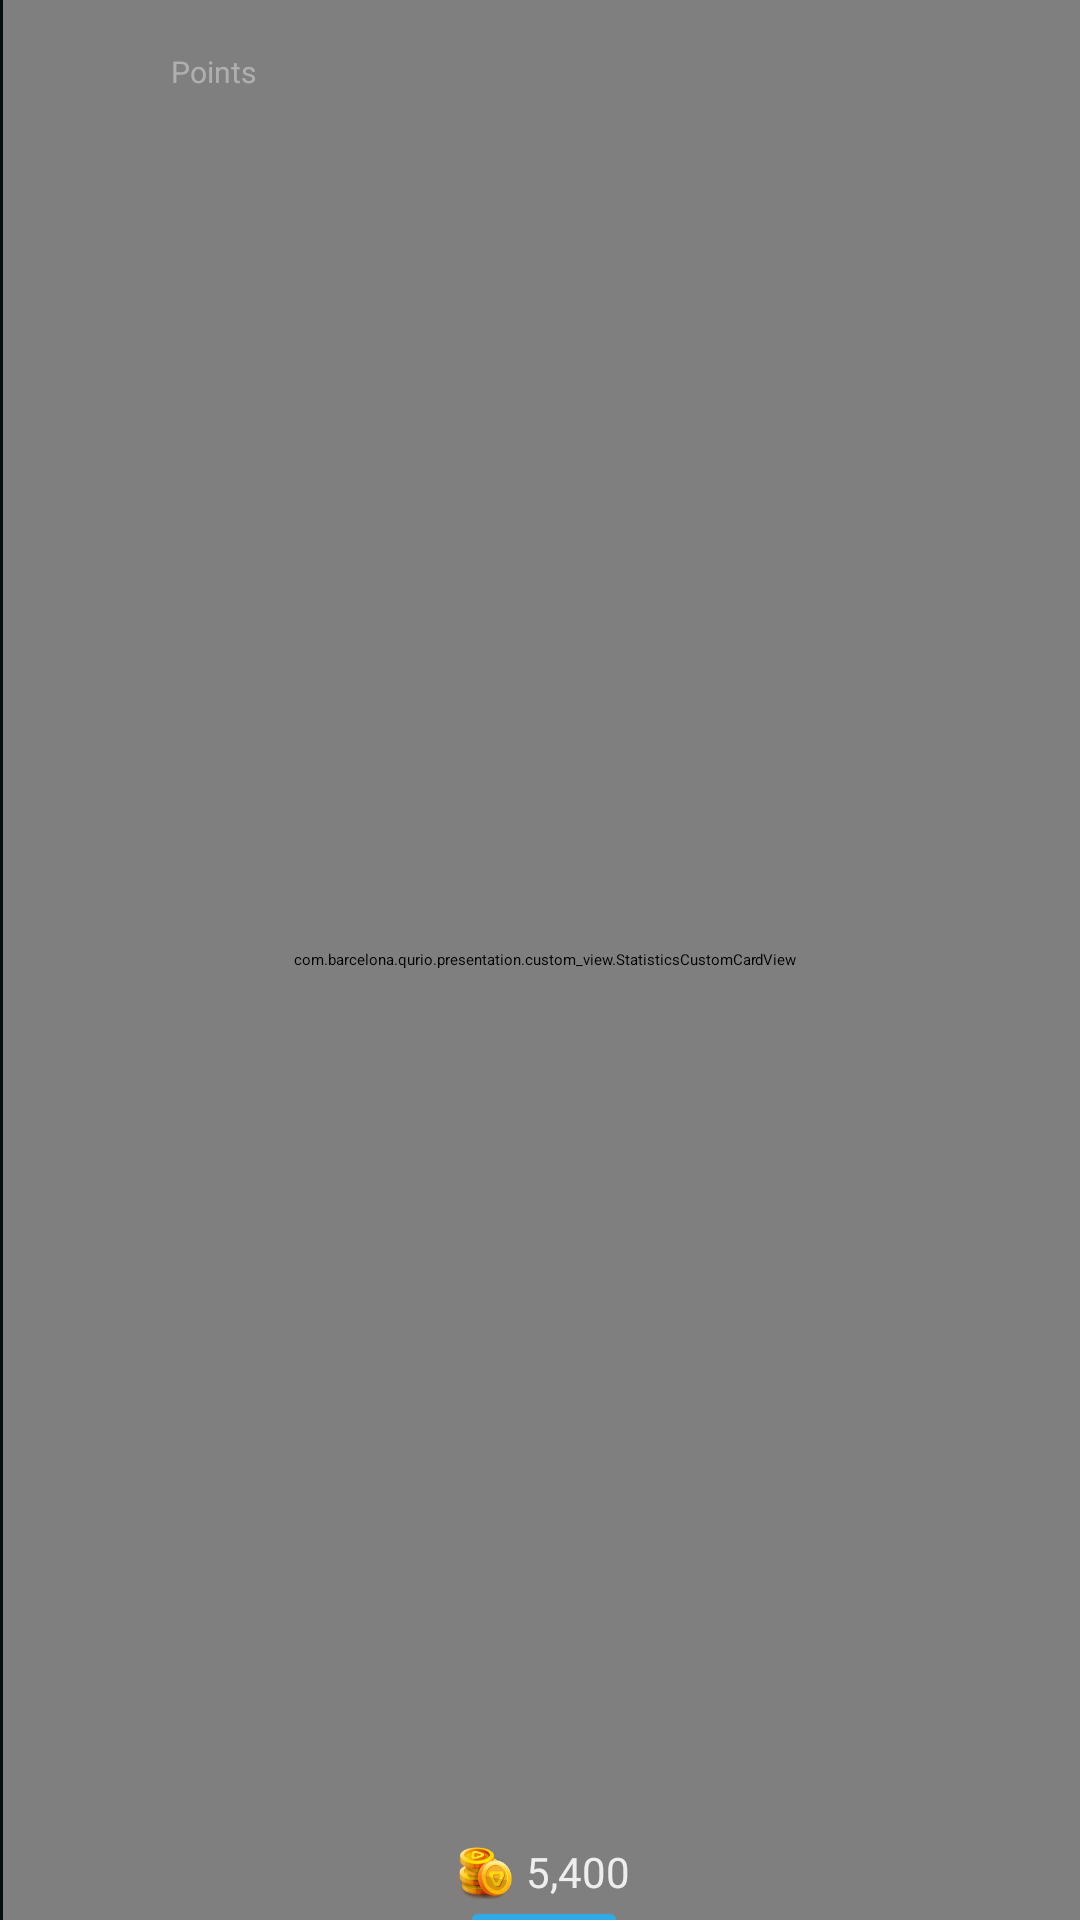

Where to tap for icons on this 1080px×1920px app screen, as (x=x, y=y):
coins: (x=485, y=1873)
